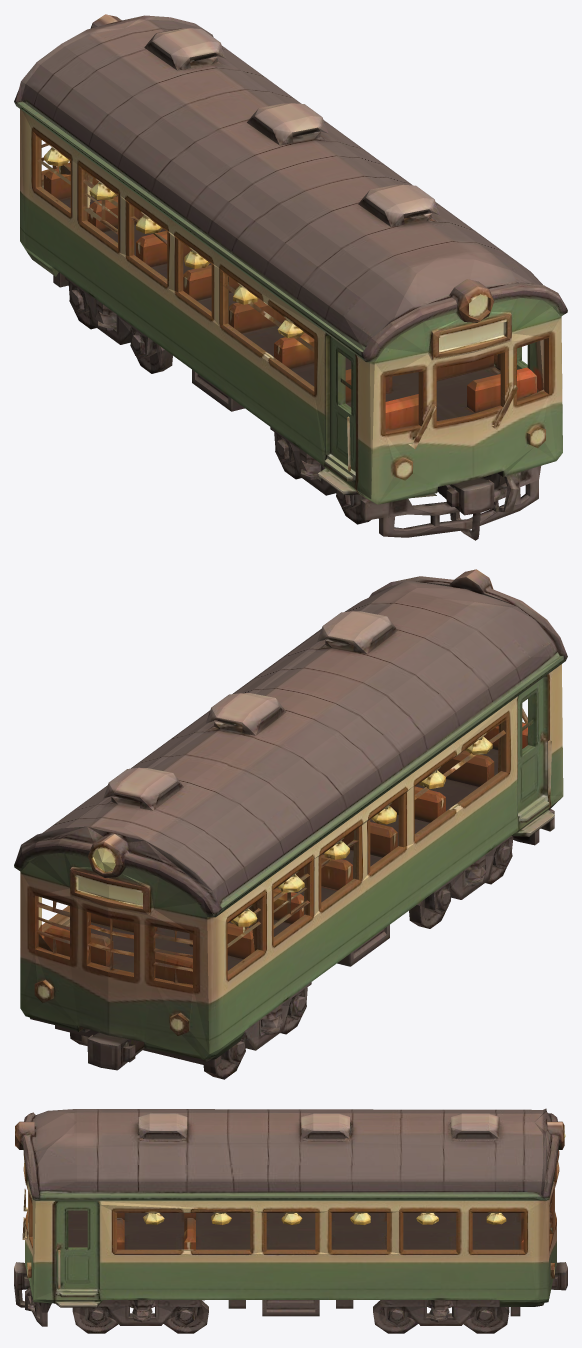
File: train-Cxup8sNN.glb
3 views of the same model, one above another, from view 1: azimuth 30°, elevation 25°; view 2: azimuth 150°, elevation 25°; view 3: azimuth 270°, elevation 25° (orthographic). The views are drawn at different scales.
Visible parts, largest first — view 1: tripo_node_f17e7d3a-2737-4a01-9b58-6ee7e162e3be; view 2: tripo_node_f17e7d3a-2737-4a01-9b58-6ee7e162e3be; view 3: tripo_node_f17e7d3a-2737-4a01-9b58-6ee7e162e3be.
Part boxes in pixels (box(x1,y1,x2,y2)): tripo_node_f17e7d3a-2737-4a01-9b58-6ee7e162e3be: box(14, 14, 567, 540); tripo_node_f17e7d3a-2737-4a01-9b58-6ee7e162e3be: box(14, 569, 567, 1079); tripo_node_f17e7d3a-2737-4a01-9b58-6ee7e162e3be: box(14, 1108, 567, 1333).
Size of the model in its own units: 0.3157 by 0.3846 by 0.9777.
Materials: 1 (1 with a texture image).
